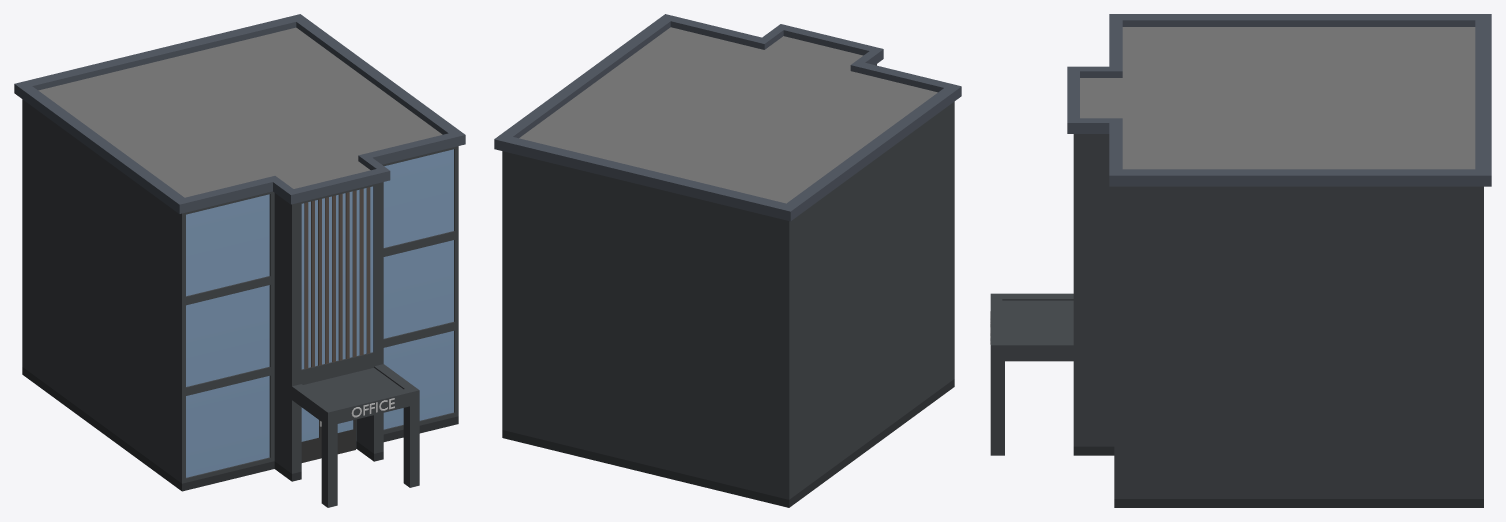
Rendered from Office_01.glb.
The picture shows the model from 3 angles, left to right: view 1: azimuth 30°, elevation 25°; view 2: azimuth 150°, elevation 25°; view 3: azimuth 270°, elevation 25°; orthographic projection. The views are drawn at different scales.
Visible parts, largest first — view 1: Office_01; view 2: Office_01; view 3: Office_01.
Part boxes in pixels (<box>): Office_01: <box>14,14,465,507</box>; Office_01: <box>494,14,961,507</box>; Office_01: <box>990,14,1491,507</box>.
Bounding box in the file's own units: 8.27 × 8 × 10.84.
Materials: 1 (1 with a texture image).
